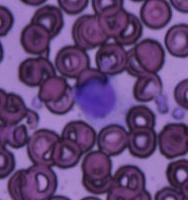L: (73, 77, 119, 122)
